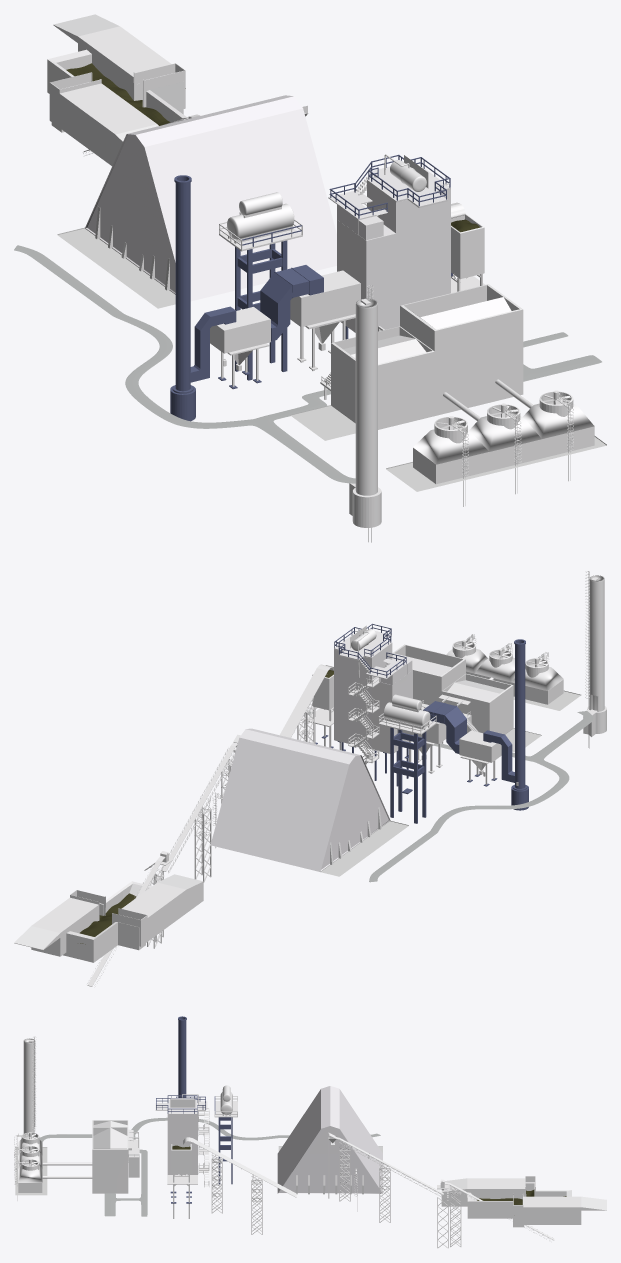
The model's file is BiomassFactory.glb.
3 views of the same model, one above another, from view 1: azimuth 30°, elevation 25°; view 2: azimuth 150°, elevation 25°; view 3: azimuth 270°, elevation 25° (orthographic). The views are drawn at different scales.
Parts seen in each view (by area): view 1: Cube.005, Cube.004, Cube.006, Mesh.030, Mesh.144, Mesh.140, Mesh.002, Cube, Mesh.001, Mesh.008, Cube.023, Cube.025 (+15 smaller); view 2: Cube.005, Cube.004, Cube.006, Mesh.144, Mesh.140, Mesh.030, Mesh.149, Mesh.002, Cube.016, Mesh.001, Mesh.008, Cube.025 (+10 smaller); view 3: Cube.005, Cube.004, Mesh.140, Mesh.144, Cube.006, Mesh.030, Mesh.149, Mesh.002, Mesh.001, Cube.059, Cube.040, Cube.016 (+3 smaller).
Part boxes in pixels (bbox=[...]): Cube.005: bbox=[85, 95, 336, 301]; Cube.004: bbox=[331, 284, 523, 429]; Cube.006: bbox=[337, 166, 450, 332]; Mesh.030: bbox=[14, 245, 601, 483]; Mesh.144: bbox=[49, 72, 158, 165]; Mesh.140: bbox=[53, 14, 185, 108]; Mesh.002: bbox=[355, 298, 377, 495]; Cube: bbox=[413, 425, 594, 484]; Mesh.001: bbox=[174, 175, 191, 391]; Mesh.008: bbox=[57, 227, 175, 308]; Cube.023: bbox=[290, 270, 360, 327]; Cube.025: bbox=[260, 265, 323, 341]; Cube.005: bbox=[210, 728, 390, 871]; Cube.004: bbox=[392, 644, 513, 734]; Cube.006: bbox=[334, 631, 412, 753]; Mesh.144: bbox=[112, 874, 203, 946]; Mesh.140: bbox=[14, 890, 105, 956]; Mesh.030: bbox=[305, 711, 593, 882]; Mesh.149: bbox=[63, 881, 151, 962]; Mesh.002: bbox=[589, 575, 604, 711]; Cube.016: bbox=[390, 727, 426, 823]; Mesh.001: bbox=[514, 639, 525, 788]; Mesh.008: bbox=[320, 820, 408, 876]; Cube.025: bbox=[423, 701, 466, 753]; Cube.005: bbox=[277, 1086, 382, 1193]; Cube.004: bbox=[92, 1120, 128, 1193]; Mesh.140: bbox=[513, 1194, 606, 1224]; Mesh.144: bbox=[441, 1176, 535, 1206]; Cube.006: bbox=[155, 1100, 205, 1174]; Mesh.030: bbox=[39, 1117, 380, 1216]; Mesh.149: bbox=[467, 1182, 571, 1227]; Mesh.002: bbox=[23, 1038, 35, 1133]; Mesh.001: bbox=[178, 1016, 186, 1097]; Cube.059: bbox=[171, 1144, 191, 1173]; Cube.040: bbox=[183, 1137, 296, 1197]; Cube.016: bbox=[218, 1117, 232, 1184].
Size of the model in its own units: 42.35 by 32.28 by 107.
